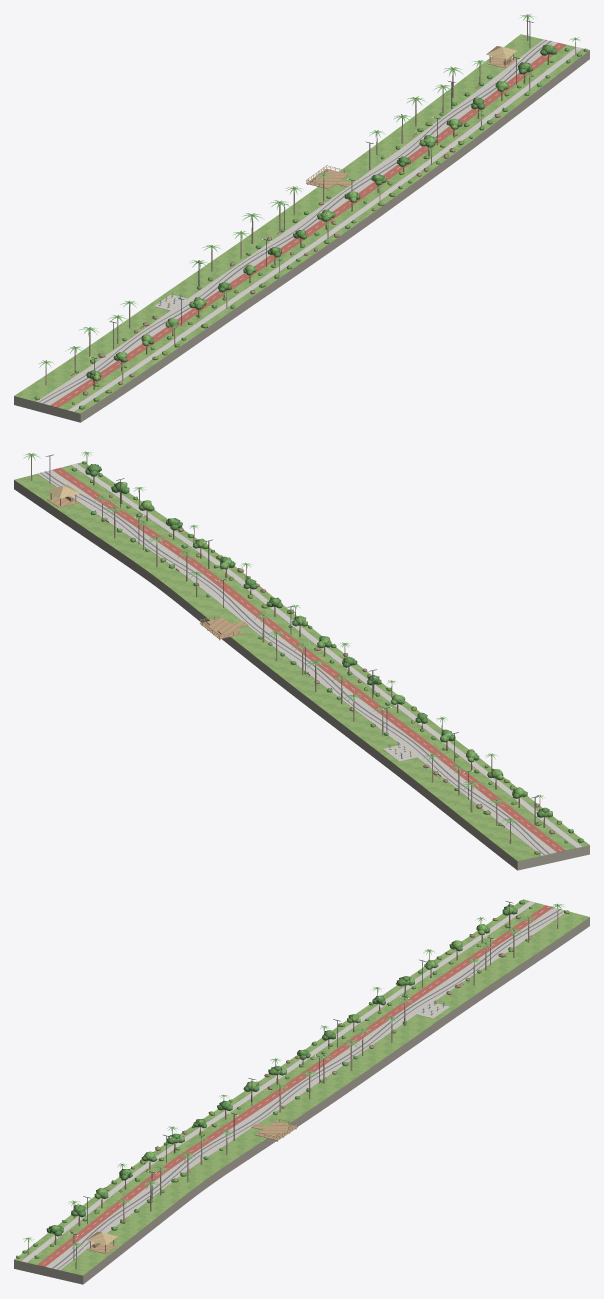
File: parque_10.glb
3 renders of one model, top to bottom at view 1: azimuth 90°, elevation 25°; view 2: azimuth 150°, elevation 25°; view 3: azimuth 270°, elevation 25°, orthographic. The views are drawn at different scales.
Parts seen in each view (by area): view 1: parque_10; view 2: parque_10; view 3: parque_10.
Boxes of the visible parts, x1=… form: parque_10: x1=14, y1=20, x2=589, y2=422; parque_10: x1=14, y1=454, x2=589, y2=870; parque_10: x1=14, y1=899, x2=589, y2=1284.
Size of the model in its own units: 273 by 13.88 by 175.
Materials: 25 (14 with a texture image).
